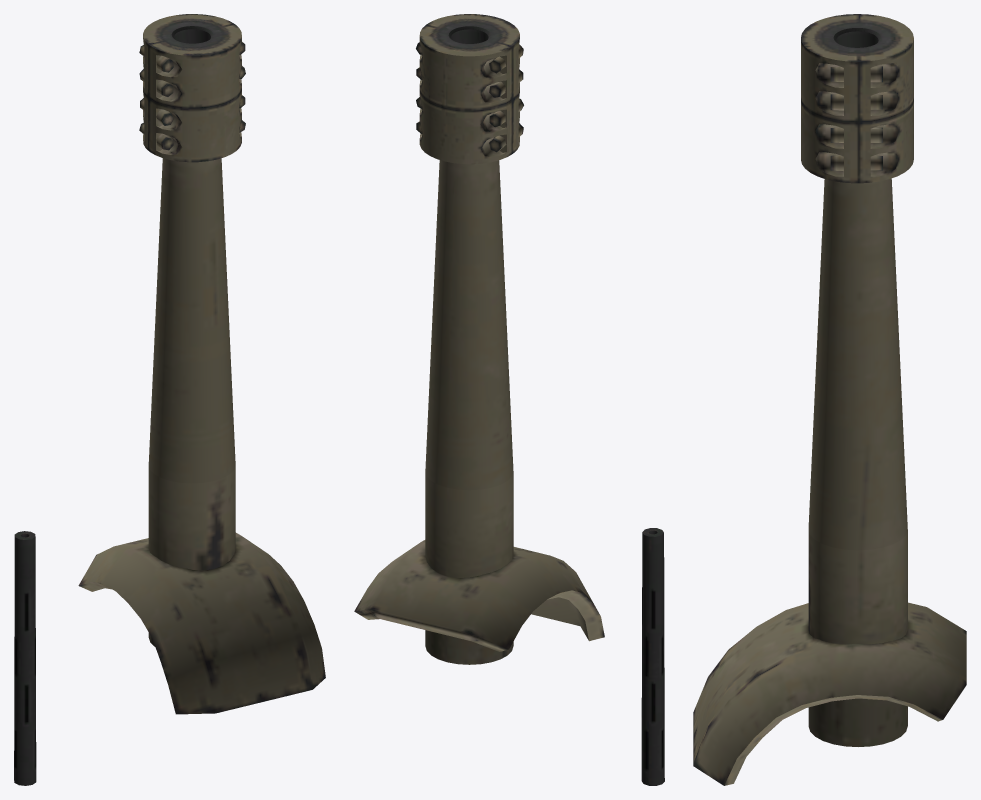
Rendered from Gun_05.glb.
3 views of the same model, side by side, from view 1: azimuth 30°, elevation 25°; view 2: azimuth 150°, elevation 25°; view 3: azimuth 270°, elevation 25° (orthographic). The views are drawn at different scales.
Parts seen in each view (by area): view 1: set_0_group_0; view 2: set_0_group_0; view 3: set_0_group_0.
Part boxes in pixels (<box>): set_0_group_0: <box>14,14,325,785</box>; set_0_group_0: <box>354,14,664,785</box>; set_0_group_0: <box>693,14,966,785</box>.
Size of the model in its own units: 0.6142 by 1.57 by 0.4878.
Materials: 1 (1 with a texture image).
